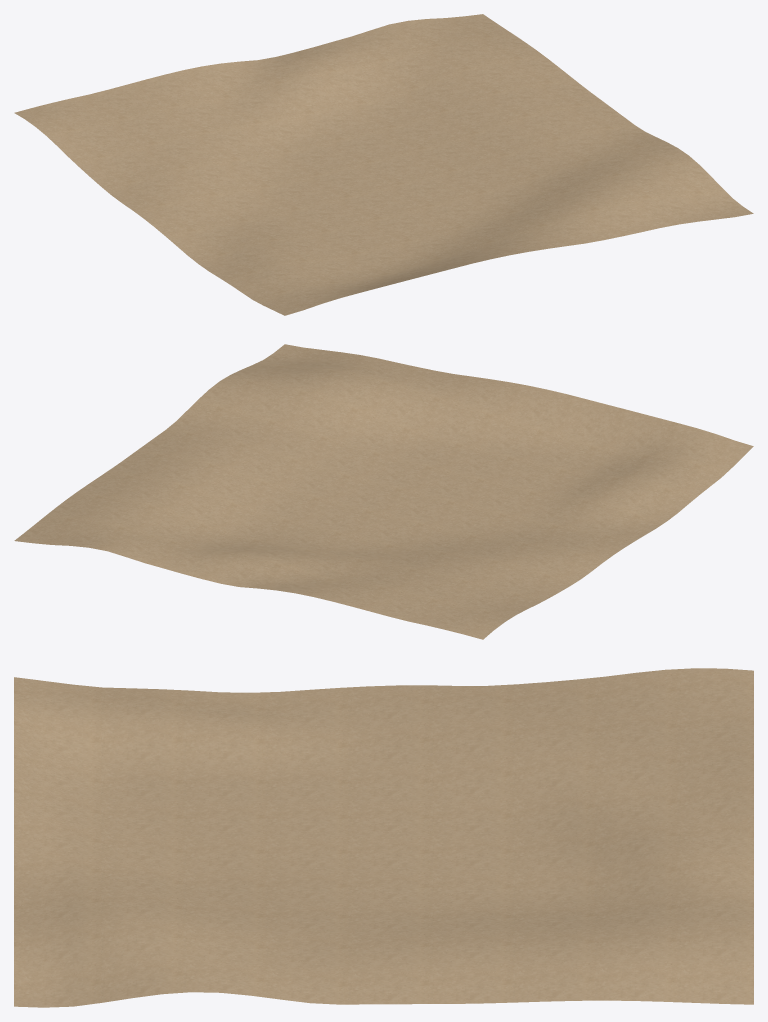
File: SandFloor.FBX
3 renders of one model, top to bottom at view 1: azimuth 30°, elevation 25°; view 2: azimuth 150°, elevation 25°; view 3: azimuth 270°, elevation 25°, orthographic. The views are drawn at different scales.
Parts seen in each view (by area): view 1: Plane001; view 2: Plane001; view 3: Plane001.
Part boxes in pixels (x1=…): Plane001: x1=14, y1=14, x2=753, y2=315; Plane001: x1=14, y1=344, x2=753, y2=639; Plane001: x1=14, y1=668, x2=753, y2=1007.
Size of the model in its own units: 3661 by 146 by 3661.
